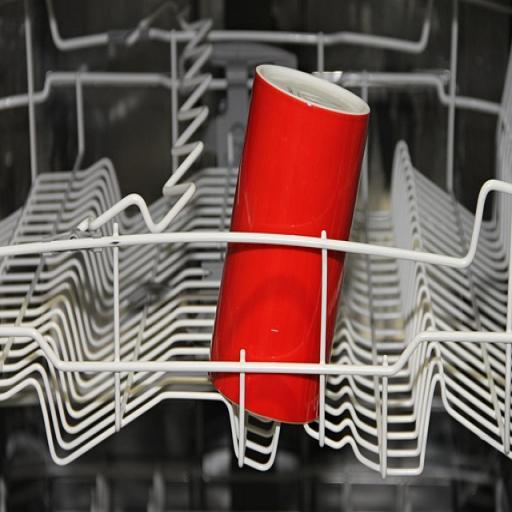cup: (208, 63, 370, 425)
